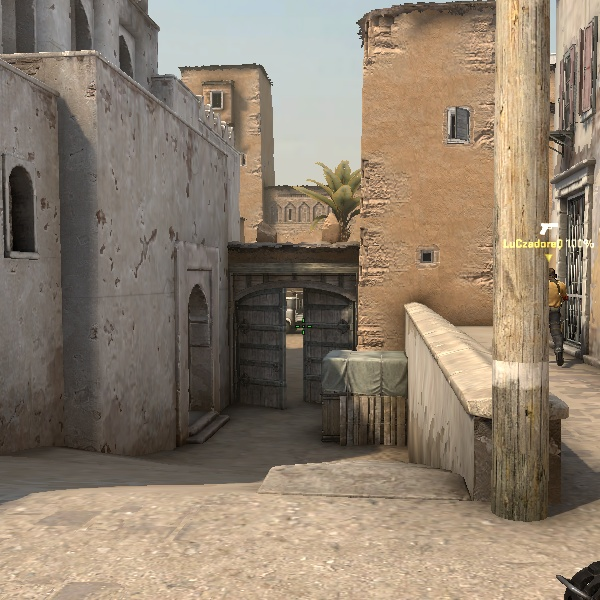t_body: (547, 265, 572, 365)
t_head: (547, 266, 558, 282)
